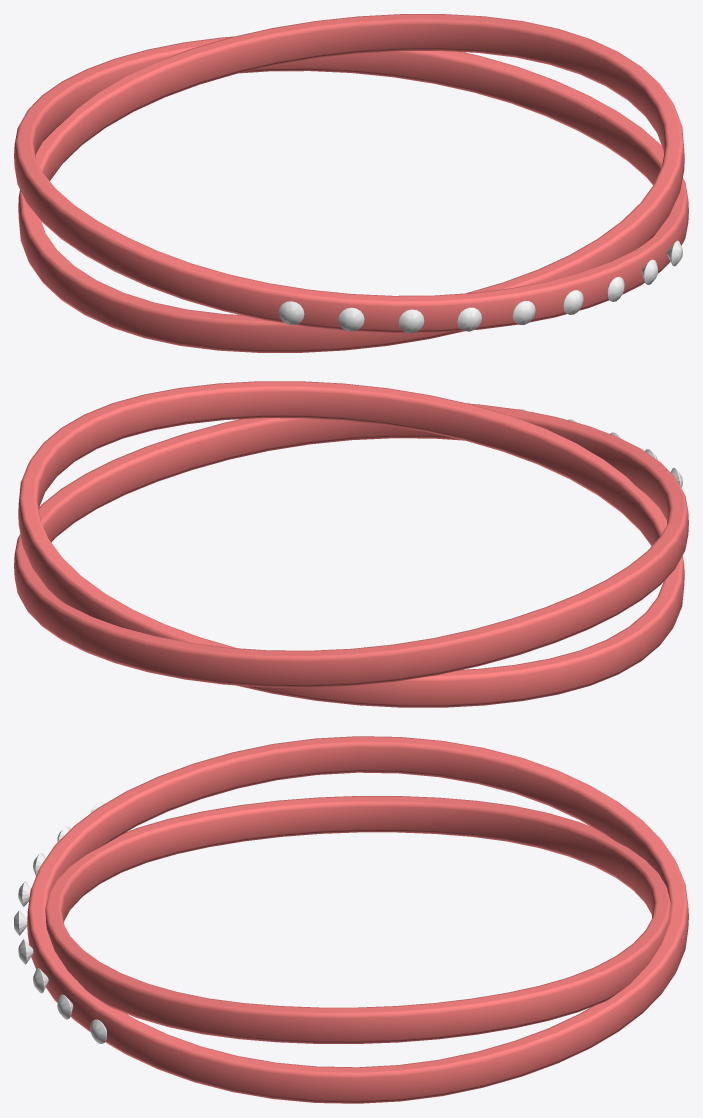
The model's file is 1-pink.fbx.
3 renders of one model, top to bottom at view 1: azimuth 30°, elevation 25°; view 2: azimuth 150°, elevation 25°; view 3: azimuth 270°, elevation 25°, orthographic.
Parts seen in each view (by area): view 1: Cylinder002, Cylinder001; view 2: Cylinder002, Cylinder001; view 3: Cylinder001, Cylinder002.
Part boxes in pixels (<box>): Cylinder002: <box>18,14,684,352</box>; Cylinder001: <box>14,36,688,332</box>; Cylinder002: <box>18,381,684,707</box>; Cylinder001: <box>14,403,688,687</box>; Cylinder001: <box>27,736,688,1103</box>; Cylinder002: <box>45,796,670,1043</box>.
Bounding box in the file's own units: 19.83 × 3 × 20.22.
